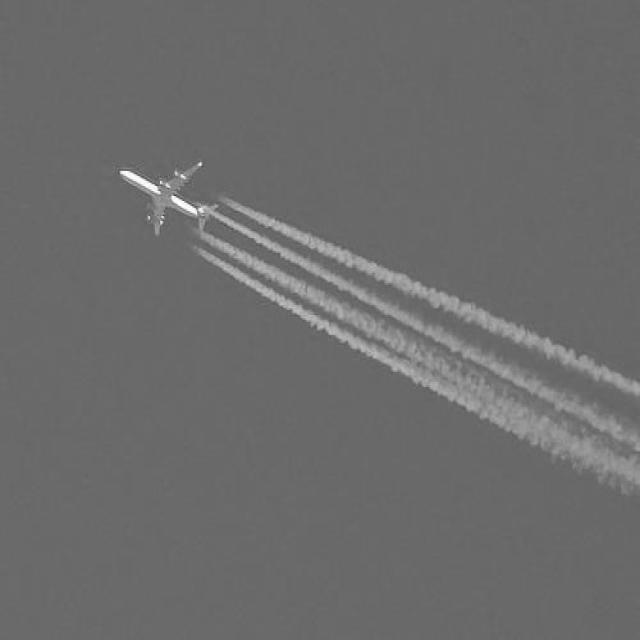aeroplane: (118, 162, 222, 240)
